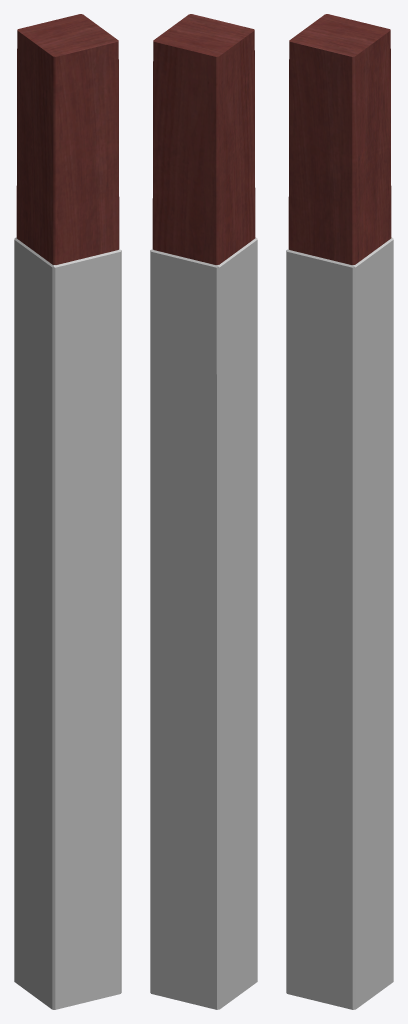
File: SM_SMJC_Pillar.fbx
The picture shows the model from 3 angles, left to right: view 1: azimuth 30°, elevation 25°; view 2: azimuth 150°, elevation 25°; view 3: azimuth 330°, elevation 25°; orthographic projection.
Visible parts, largest first — view 1: SM_SMJC_Pillar_ConvexHulls, SM_SMJC_Pillar; view 2: SM_SMJC_Pillar_ConvexHulls, SM_SMJC_Pillar; view 3: SM_SMJC_Pillar_ConvexHulls, SM_SMJC_Pillar.
Boxes of the visible parts, <box> form: SM_SMJC_Pillar_ConvexHulls: <box>14,237,121,1009</box>; SM_SMJC_Pillar: <box>16,14,119,264</box>; SM_SMJC_Pillar_ConvexHulls: <box>150,237,257,1009</box>; SM_SMJC_Pillar: <box>152,14,255,264</box>; SM_SMJC_Pillar_ConvexHulls: <box>286,237,393,1009</box>; SM_SMJC_Pillar: <box>288,14,391,264</box>.
Size of the model in its own units: 21.94 by 21.94 by 288.
Materials: 2 (1 with a texture image).
